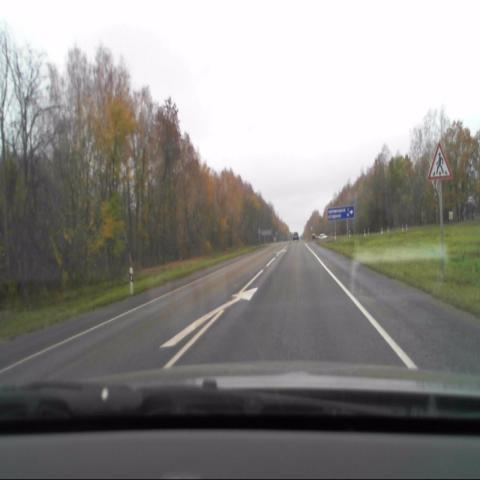1_22: (428, 142, 451, 179)
